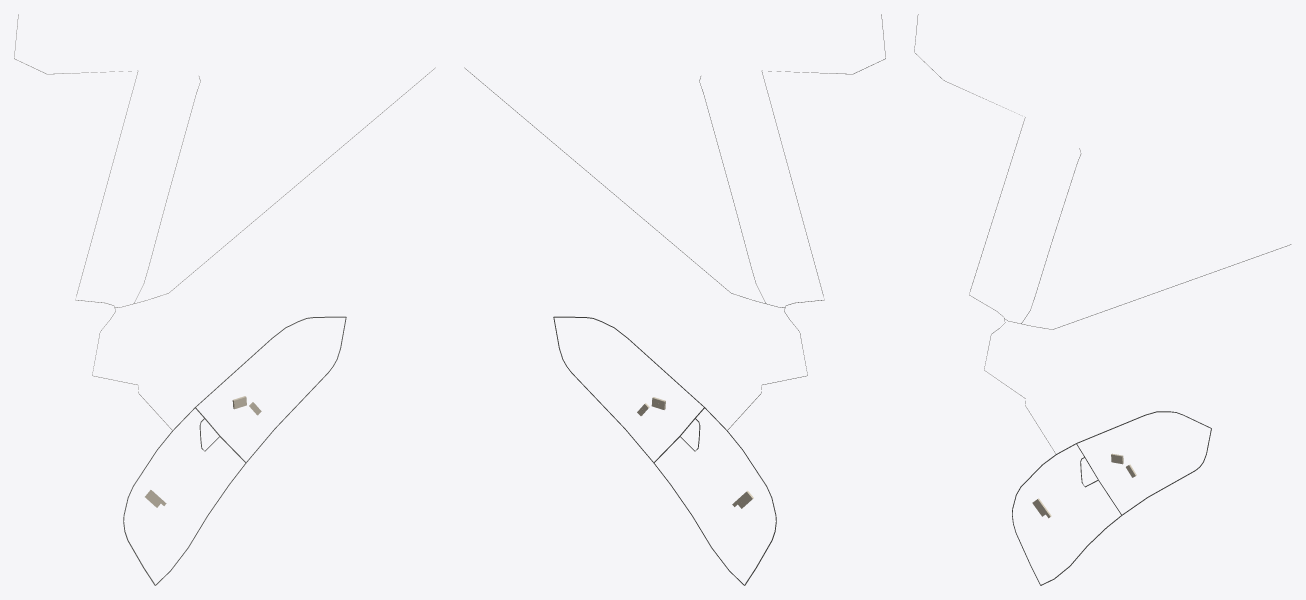
Rendered from historic-palestine-05_21_3474_3157.glb.
3 views of the same model, side by side, from view 1: azimuth 30°, elevation 25°; view 2: azimuth 150°, elevation 25°; view 3: azimuth 330°, elevation 25° (orthographic). The views are drawn at different scales.
Visible parts, largest first — view 1: Road .003, Road .002; view 2: Road .003, Road .002; view 3: Road .003.
Part boxes in pixels (x1,y1,x2,y2): Road .003: (14, 14, 172, 430); Road .002: (123, 316, 345, 585); Road .003: (727, 14, 885, 430); Road .002: (554, 316, 776, 585); Road .003: (914, 14, 1055, 453).
Size of the model in its own units: 1446 by 1984 by 8.7.
